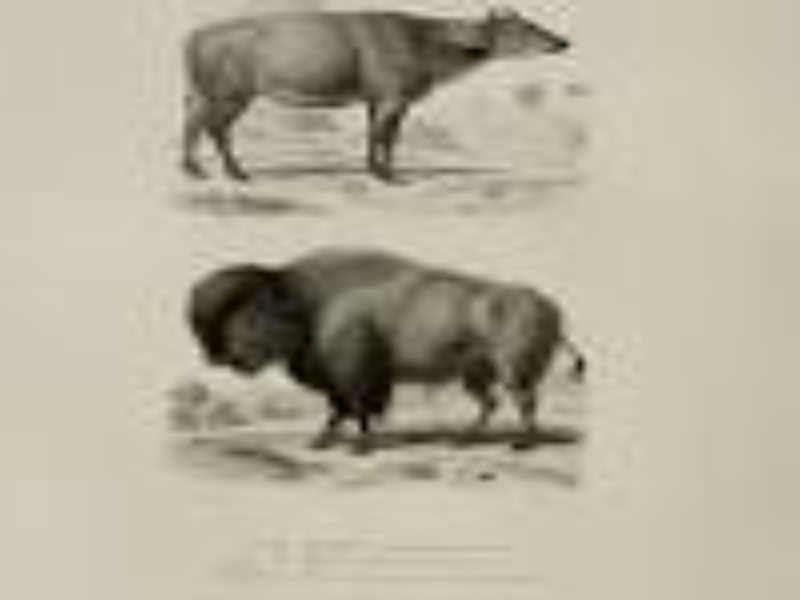buffalo: (179, 241, 594, 477)
